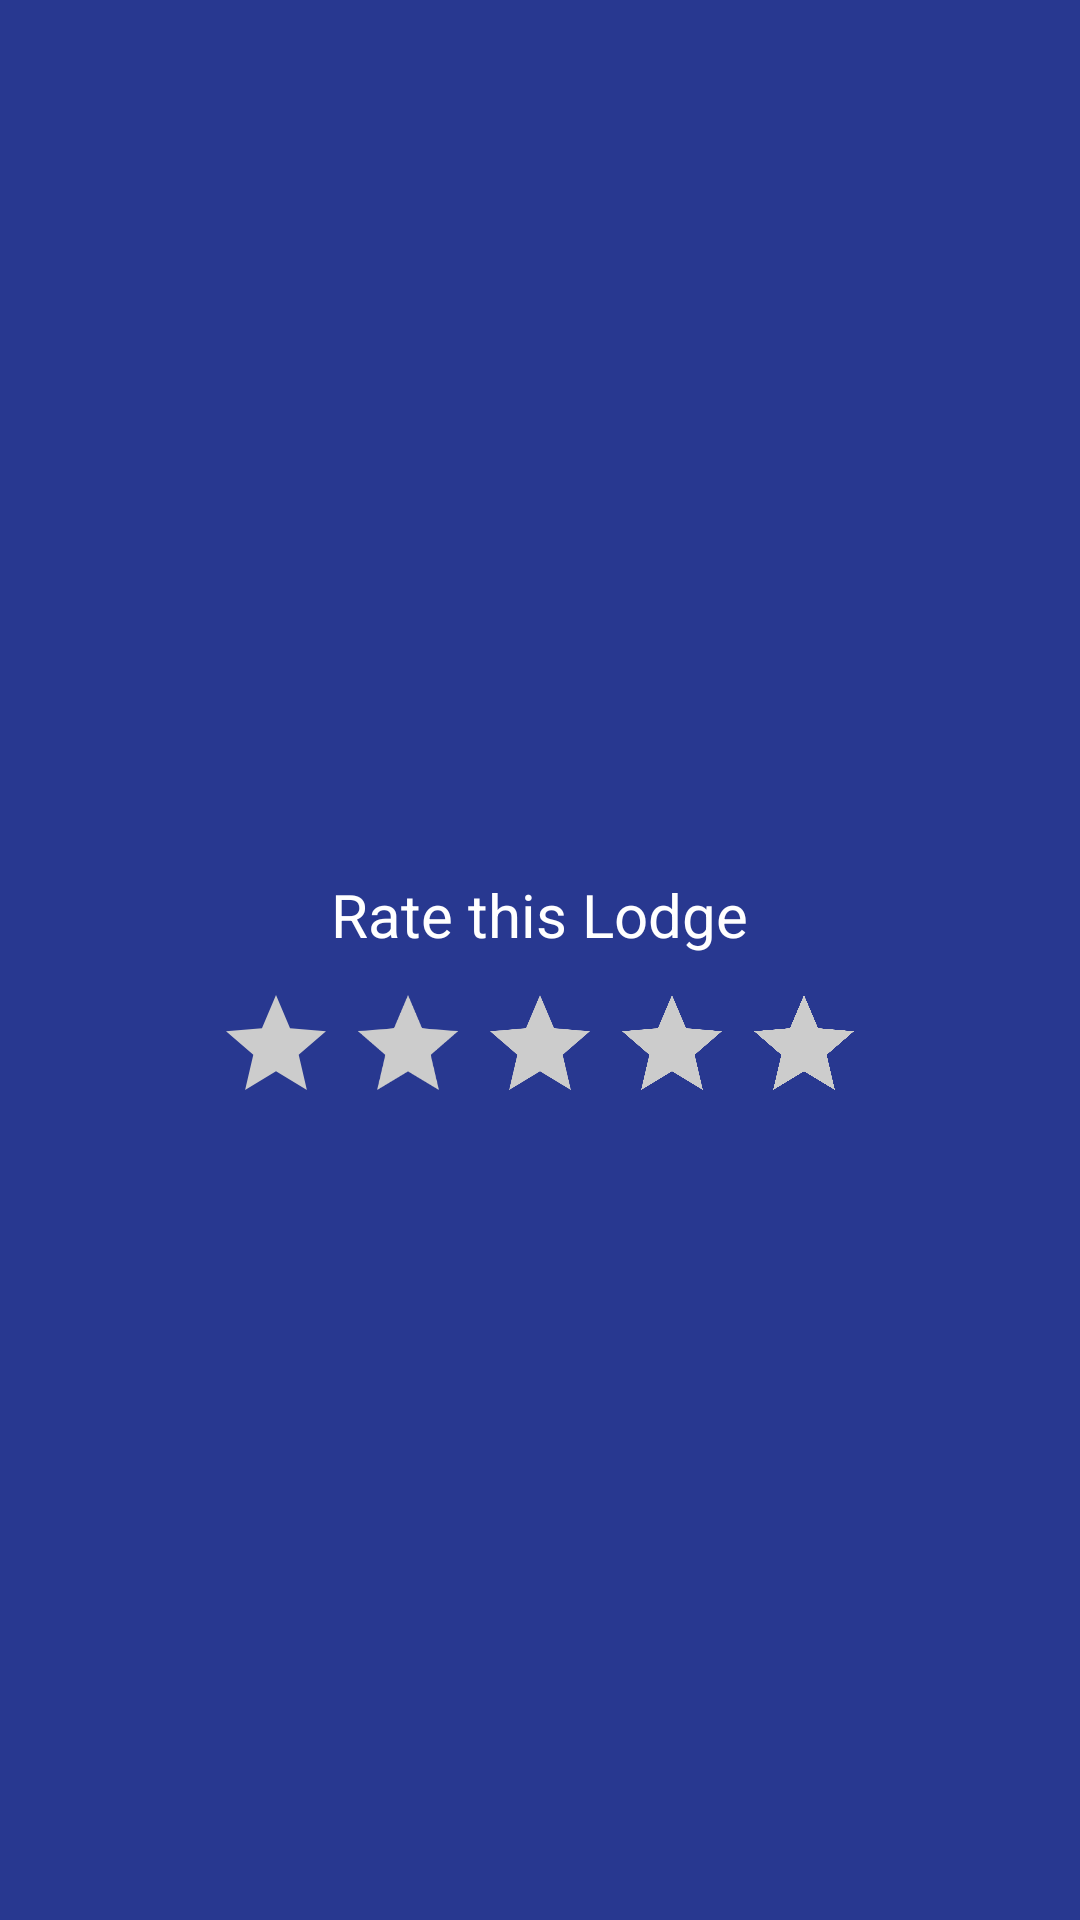

Icon click points for this 1080px x 1920px phone screenshot, format [x,y]:
star border: [276,1042], [408,1042], [540,1043], [672,1043], [804,1043]
